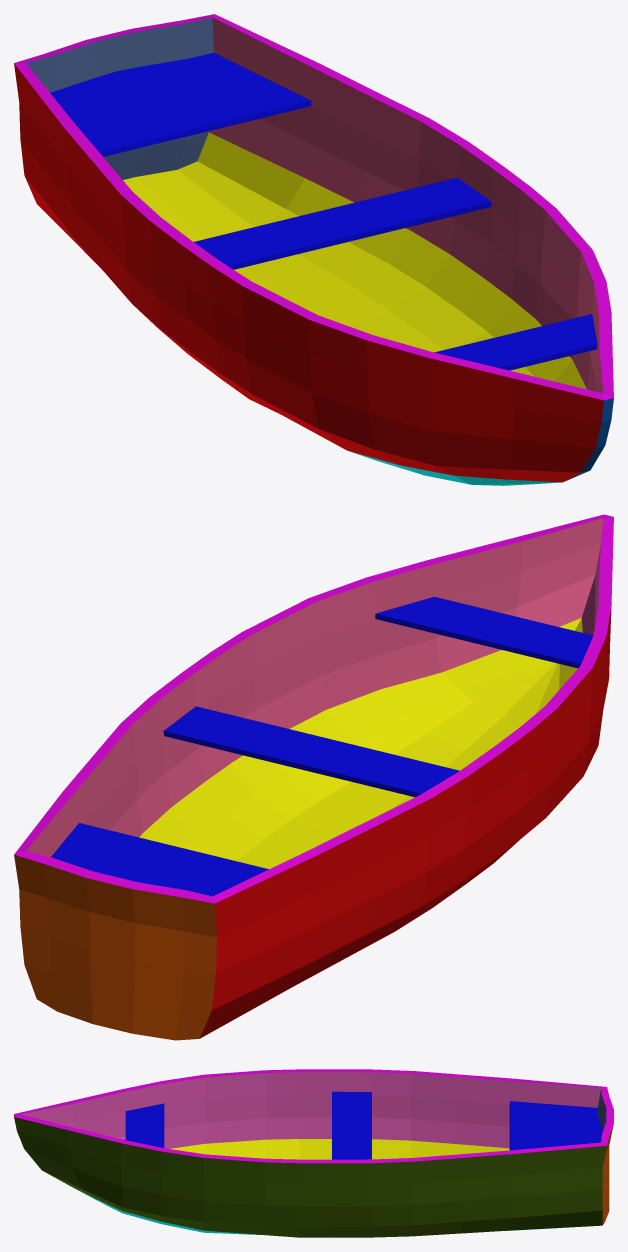
Rendered from Lighthouse_Building_L.fbx.
The picture shows the model from 3 angles, top to bottom: view 1: azimuth 30°, elevation 25°; view 2: azimuth 150°, elevation 25°; view 3: azimuth 270°, elevation 25°; orthographic projection. The views are drawn at different scales.
Parts seen in each view (by area): view 1: Lighthouse_Building_L; view 2: Lighthouse_Building_L; view 3: Lighthouse_Building_L.
Boxes of the visible parts, box(x1,y1,x2,y2) form: Lighthouse_Building_L: box(14, 14, 613, 485); Lighthouse_Building_L: box(14, 514, 613, 1040); Lighthouse_Building_L: box(14, 1069, 613, 1237).
Bounding box in the file's own units: 203 × 103 × 546.
